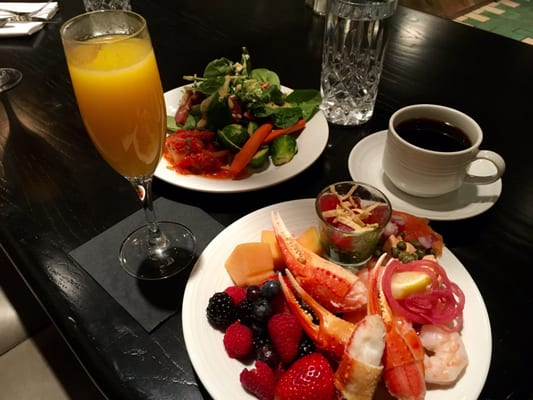pizza: (382, 104, 506, 198), (320, 0, 398, 129)
sushi: (315, 181, 393, 267)
